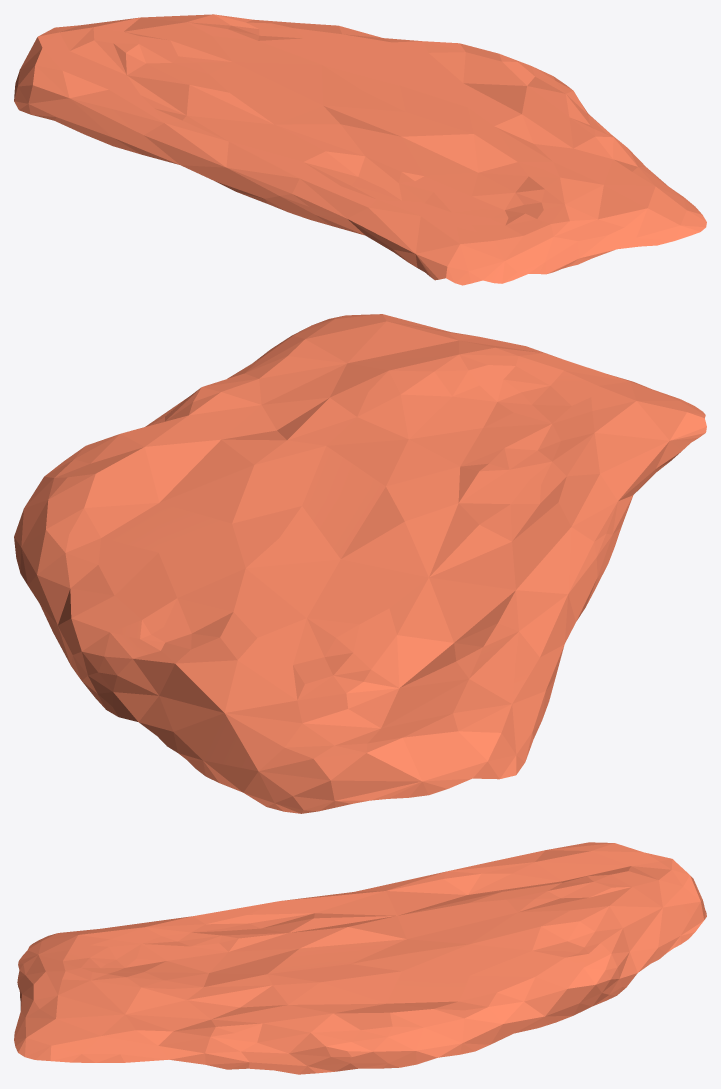
File: ground.075.fbx
3 views of the same model, one above another, from view 1: azimuth 30°, elevation 25°; view 2: azimuth 150°, elevation 25°; view 3: azimuth 270°, elevation 25° (orthographic). The views are drawn at different scales.
Visible parts, largest first — view 1: ground_075; view 2: ground_075; view 3: ground_075.
Part boxes in pixels (left/top/right/bottom): ground_075: left=14, top=14, right=706, bottom=285; ground_075: left=14, top=314, right=706, bottom=813; ground_075: left=14, top=842, right=706, bottom=1074.
Size of the model in its own units: 19366 by 2170 by 27401.
